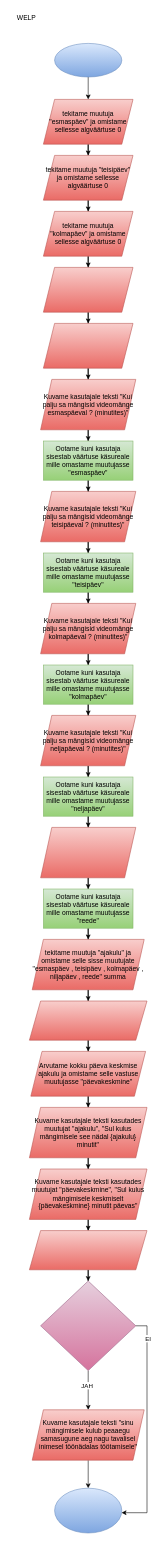
The diagram is 161 pixels wide and 1543 high, and some of its shapes have lost their labels. Each missing label, with the box of its shape:
Algus: (54, 43, 122, 77)
kas muutujas "Tundidedsajakulu" olev väärtus on 35 tundi või suurem: (40, 1280, 136, 1371)
Kuvame kasutajale teksti "Kui palju sa mängisid videomänge reedel ? (minutites)": (40, 827, 136, 878)
LÕPP: (54, 1488, 122, 1533)
tekitame muutuja "neljapäev" ja omistame sellesse algväärtuse 0: (43, 267, 133, 312)
tekitame muutuja "päevakeskmine" ja omistame selle sisse väärtuse 0: (29, 1000, 147, 1040)
tekitame muutuja "reede" ja omistame sellesse algväärtuse 0: (43, 323, 133, 368)
tekitame muutuja "tundidesajakulu" ja arvutame selle sisse ajakulu tundides: (29, 1230, 147, 1270)
